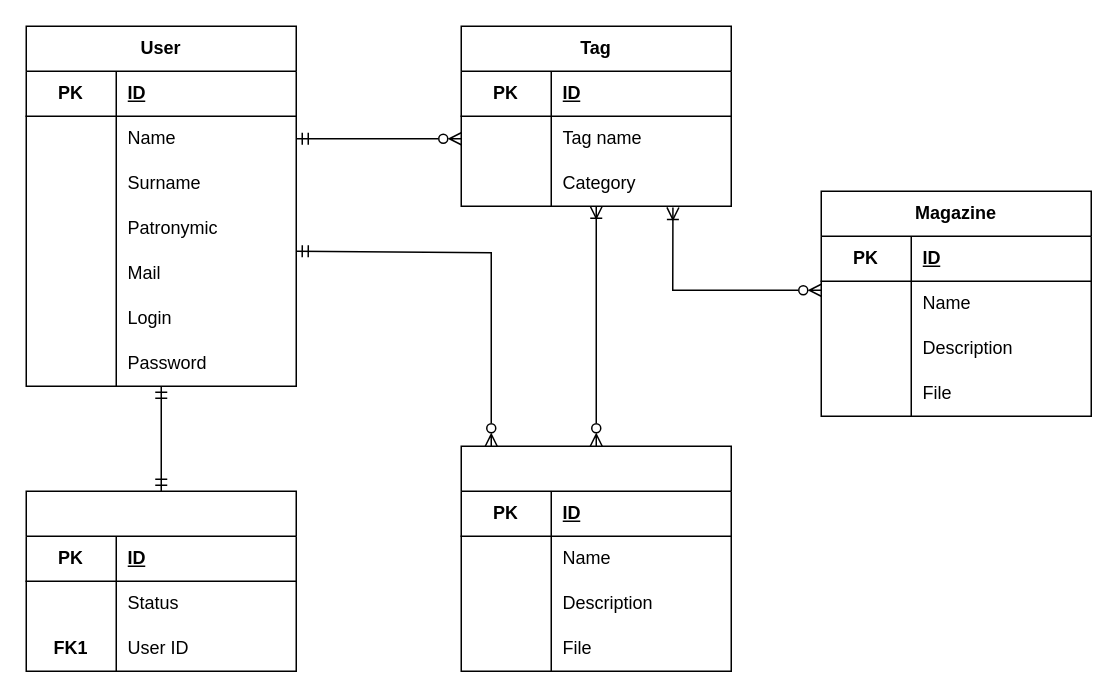
Some shapes in this 1118 by 698 pixel diagram are drawn without their labels. Each missing label, with the box of its shape:
Post: (460, 445, 731, 671)
User Status: (25, 490, 296, 671)
